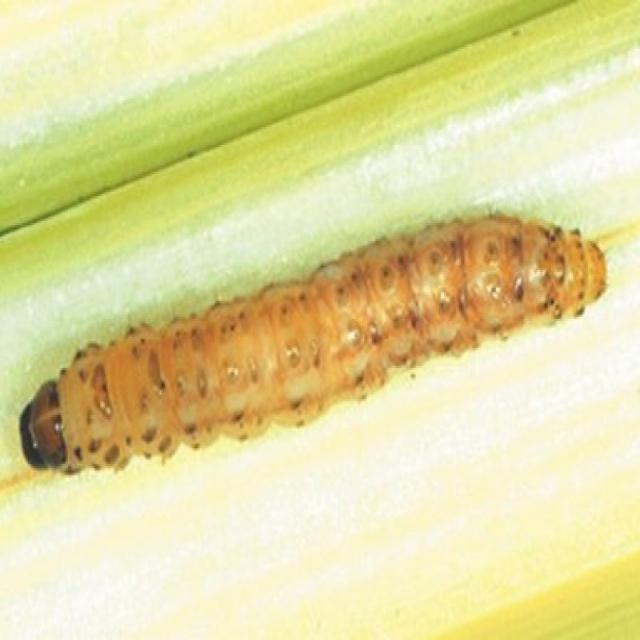cornborer-Larva-: (14, 202, 622, 476)
